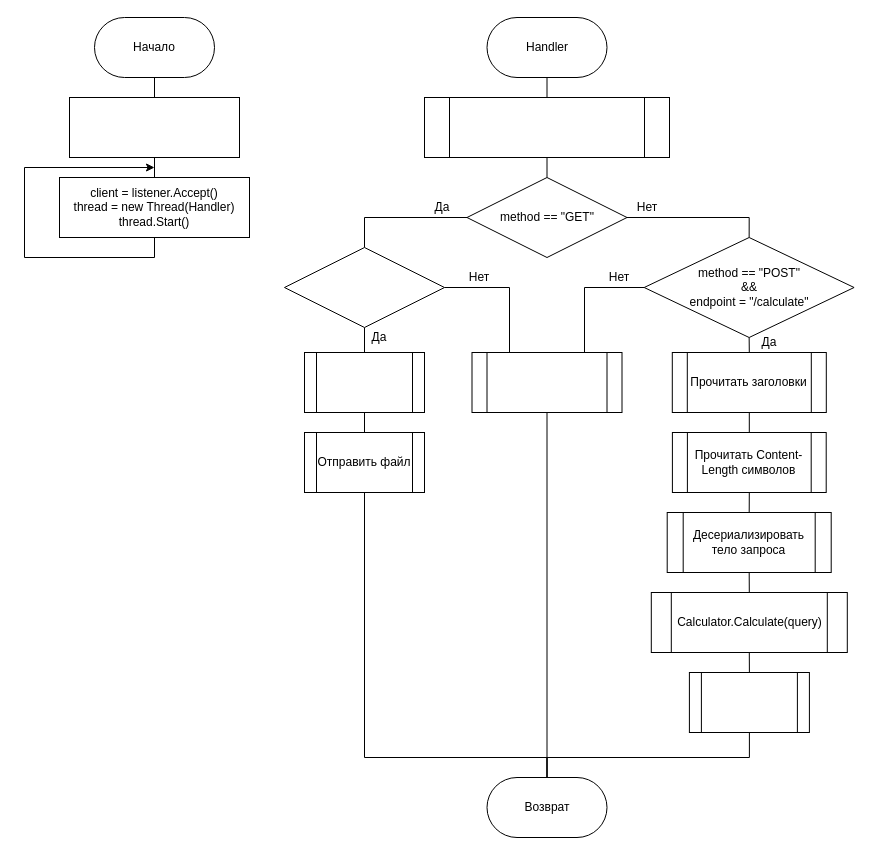
This 872x855 diagram has some shape labels left out. Each missing label, with the centre of its shape:
File.Exists(endpoint): [364,287]
listener = new TcpListener() listener.Start(): [154,127]
startLine = ReadUntil("\r\n") method, endpoint = startLine.split(): [547,127]
Отправить JSON: [748,702]
Отправить сообщение об ошибке: [546,382]
Прочитать файл: [364,382]
